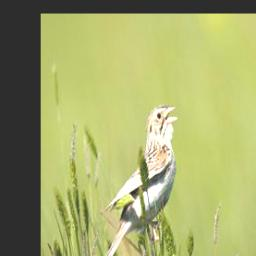Sparrow: (99, 103, 179, 256)
